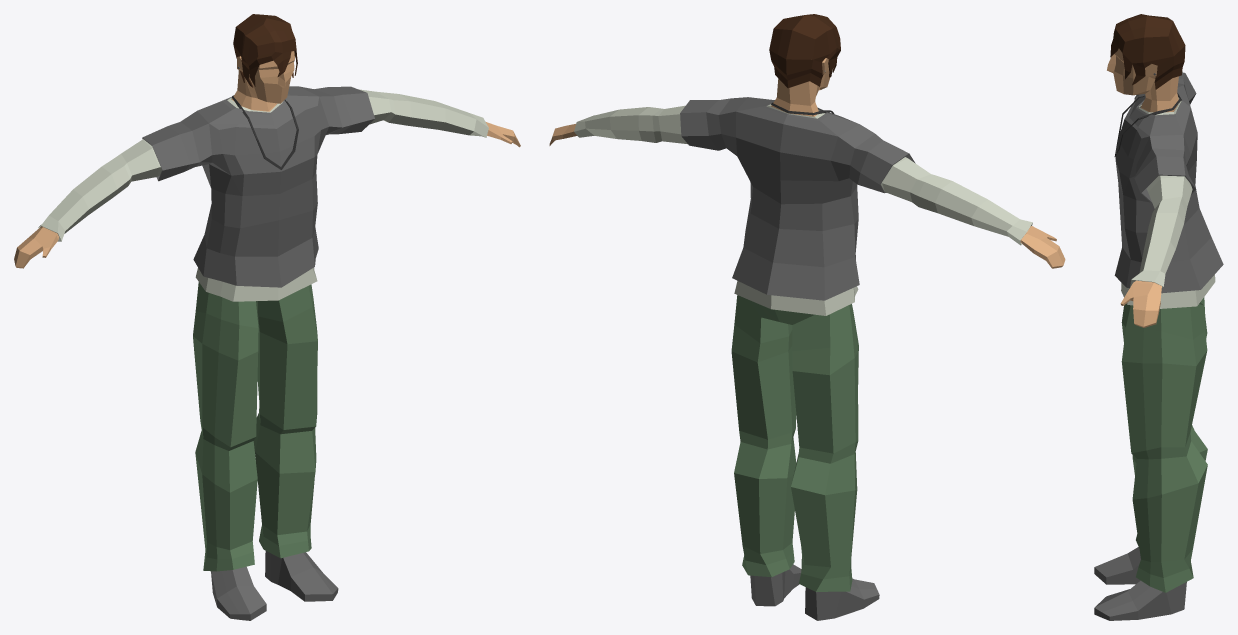
The model's file is mystery.fbx.
3 views of the same model, side by side, from view 1: azimuth 30°, elevation 25°; view 2: azimuth 150°, elevation 25°; view 3: azimuth 270°, elevation 25° (orthographic).
Visible parts, largest first — view 1: pants, Shirt, sleeves, shoe, body, hairr; view 2: pants, Shirt, sleeves, hairr, shoe, body; view 3: pants, Shirt, sleeves, hairr, shoe, body, neckles.
Part boxes in pixels (x1,y1,x2,y2): pants: (193, 282, 317, 571); Shirt: (142, 86, 374, 287); sleeves: (38, 89, 488, 301); shoe: (211, 551, 338, 620); body: (14, 51, 520, 268); hairr: (233, 14, 297, 87); pants: (731, 295, 858, 591); Shirt: (680, 97, 915, 300); sleeves: (574, 104, 1032, 315); hairr: (769, 14, 840, 88); shoe: (750, 564, 879, 620); body: (549, 58, 1065, 268); pants: (1121, 297, 1207, 592); Shirt: (1114, 72, 1223, 293); sleeves: (1121, 71, 1215, 308); hairr: (1110, 14, 1185, 89); shoe: (1094, 547, 1186, 620); body: (1107, 48, 1178, 327); neckles: (1114, 95, 1180, 156).
Size of the model in its own units: 311 by 339 by 68.58.
